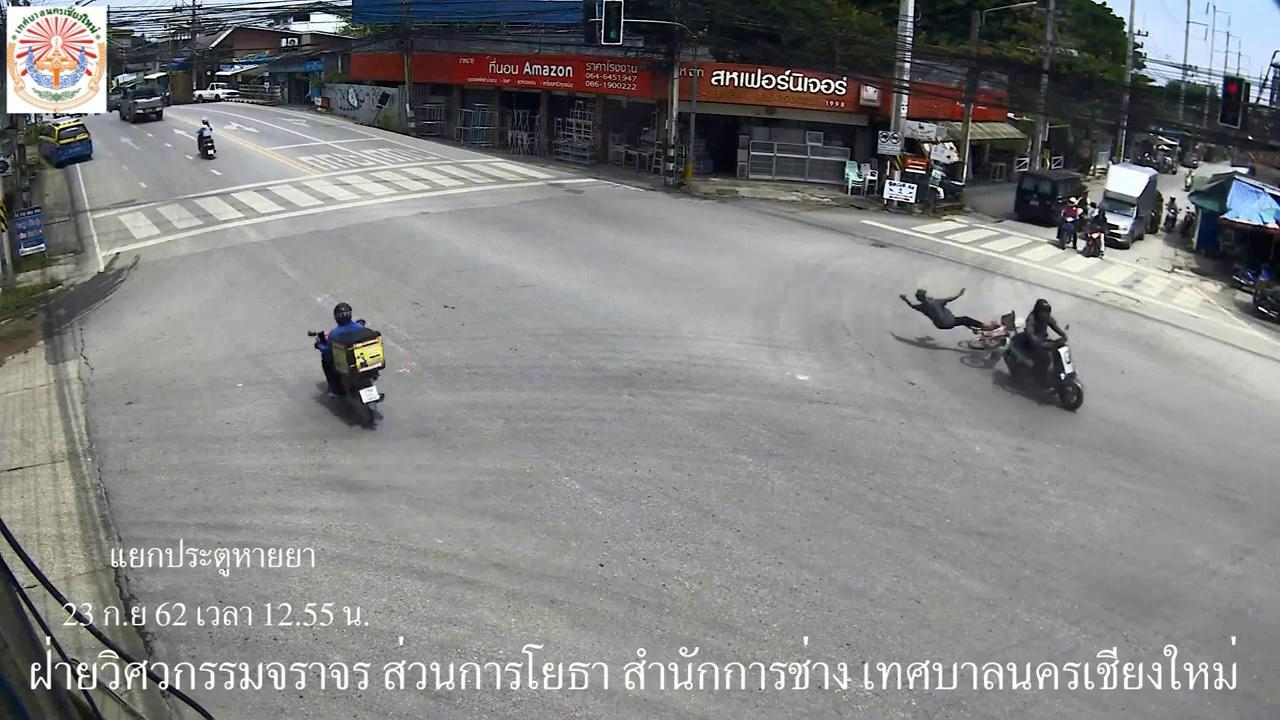accident: (896, 279, 993, 338)
